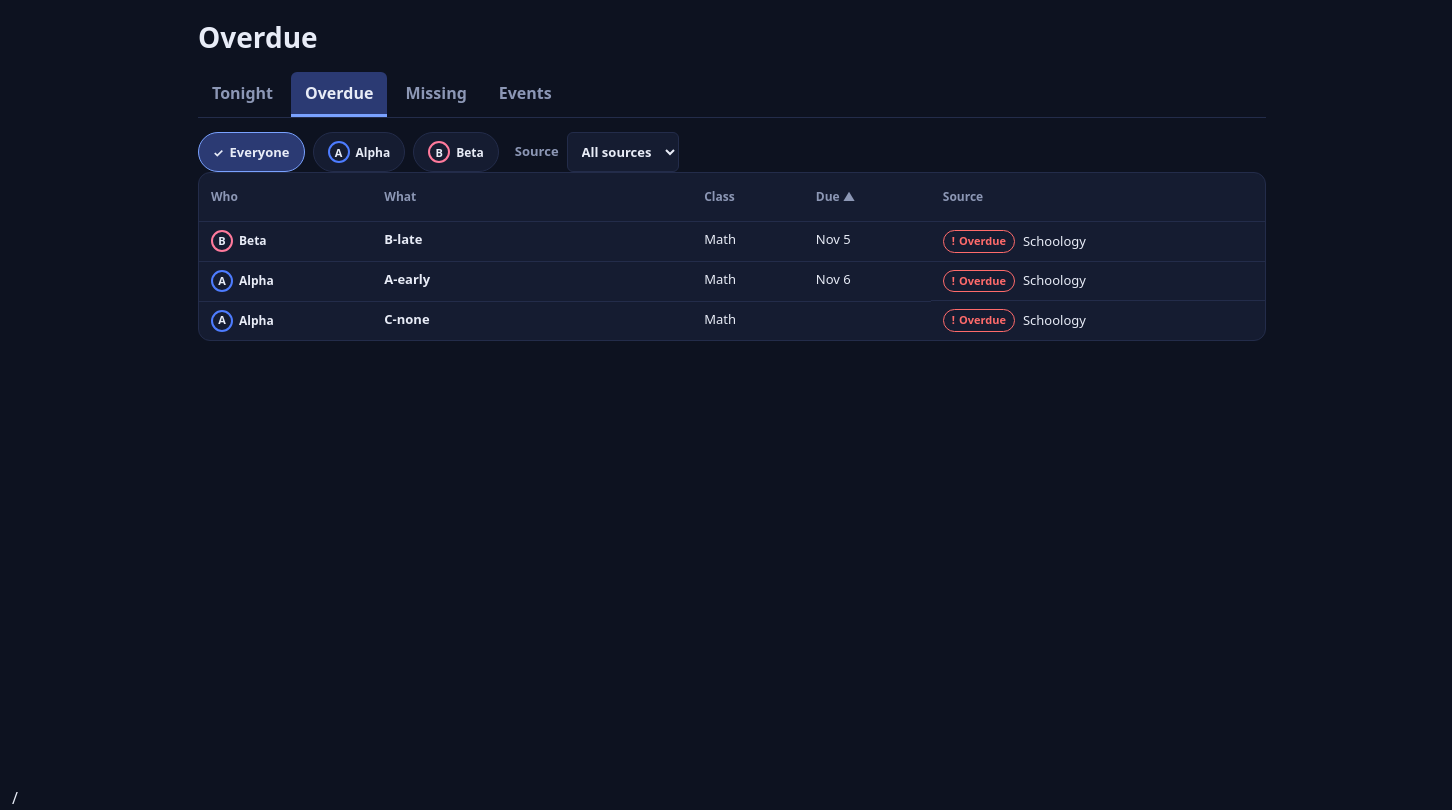
Test: sort by due and by kid, keyboard-operable buttons, aria-sort
Expected: the table is shown, left=199, top=173, right=1265, bottom=340
Click the button with aria-label "sort by due" at [836, 197], box left=816, top=181, right=855, bottom=213
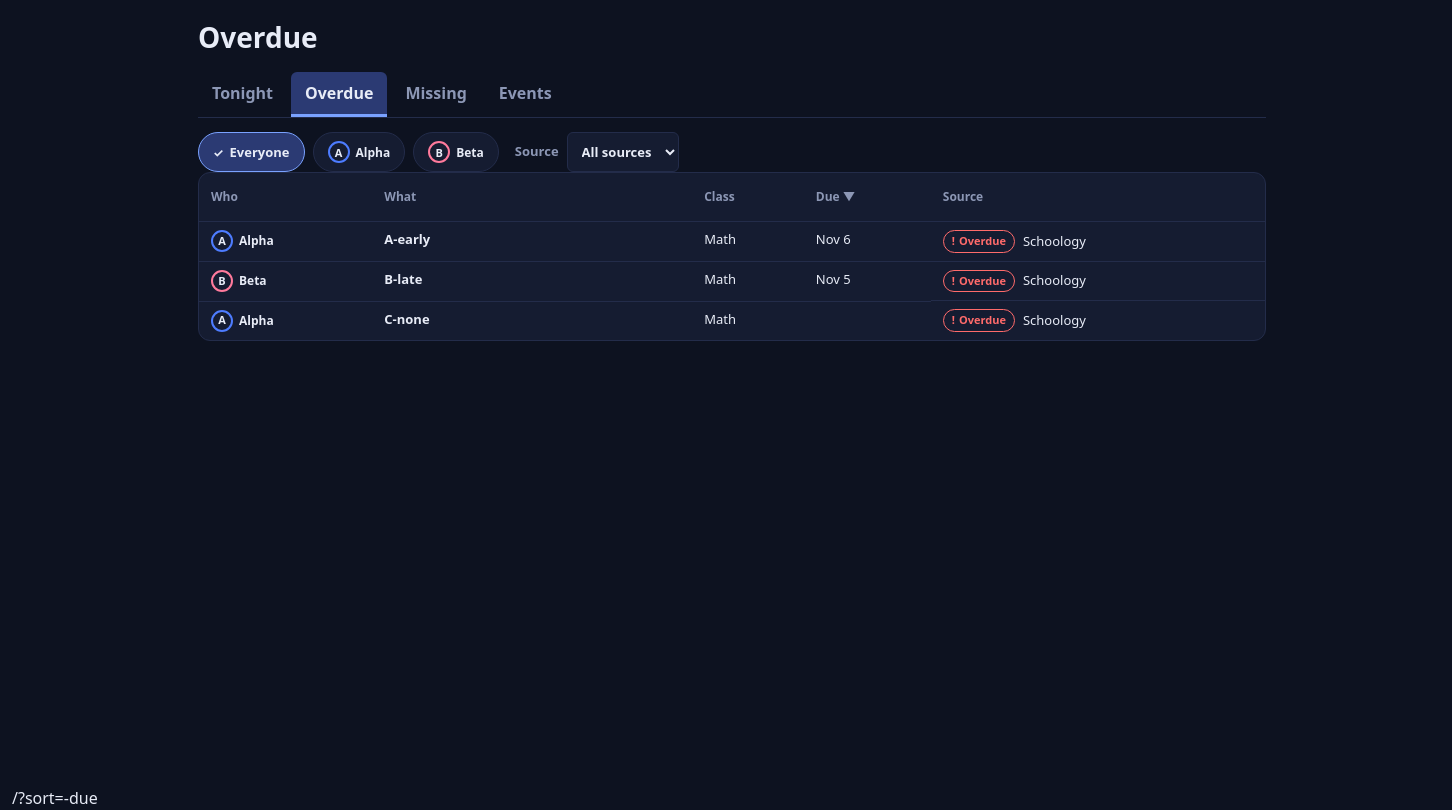
Click the button with aria-label "sort by who" at [224, 197], box left=211, top=181, right=238, bottom=213
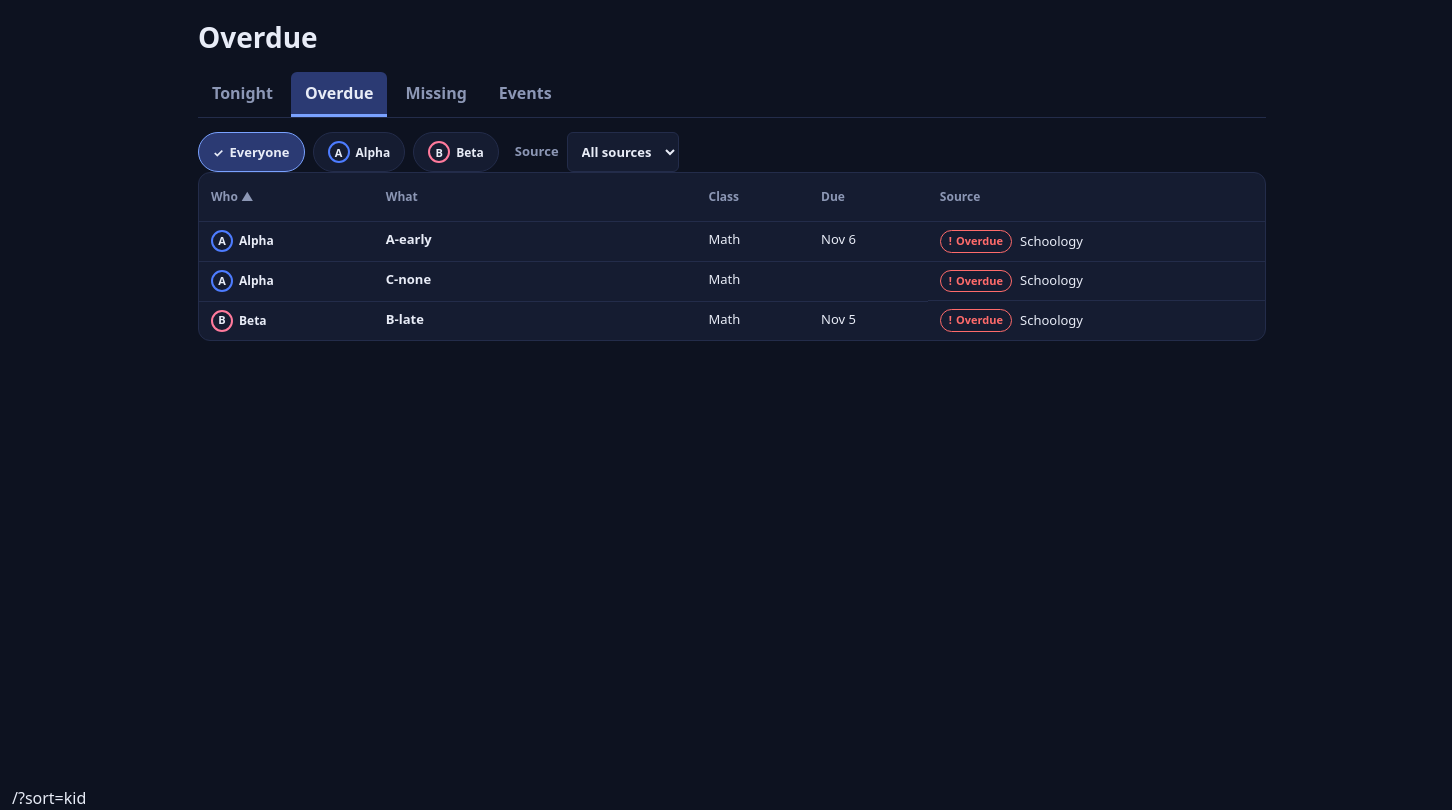
Expected: the cell "B-late" is shown, left=374, top=301, right=696, bottom=340
Expected: the text with test id "where" shows "sort=kid", left=12, top=787, right=86, bottom=809
Click the button with aria-label "sort by who" at [232, 197], box left=211, top=181, right=254, bottom=213
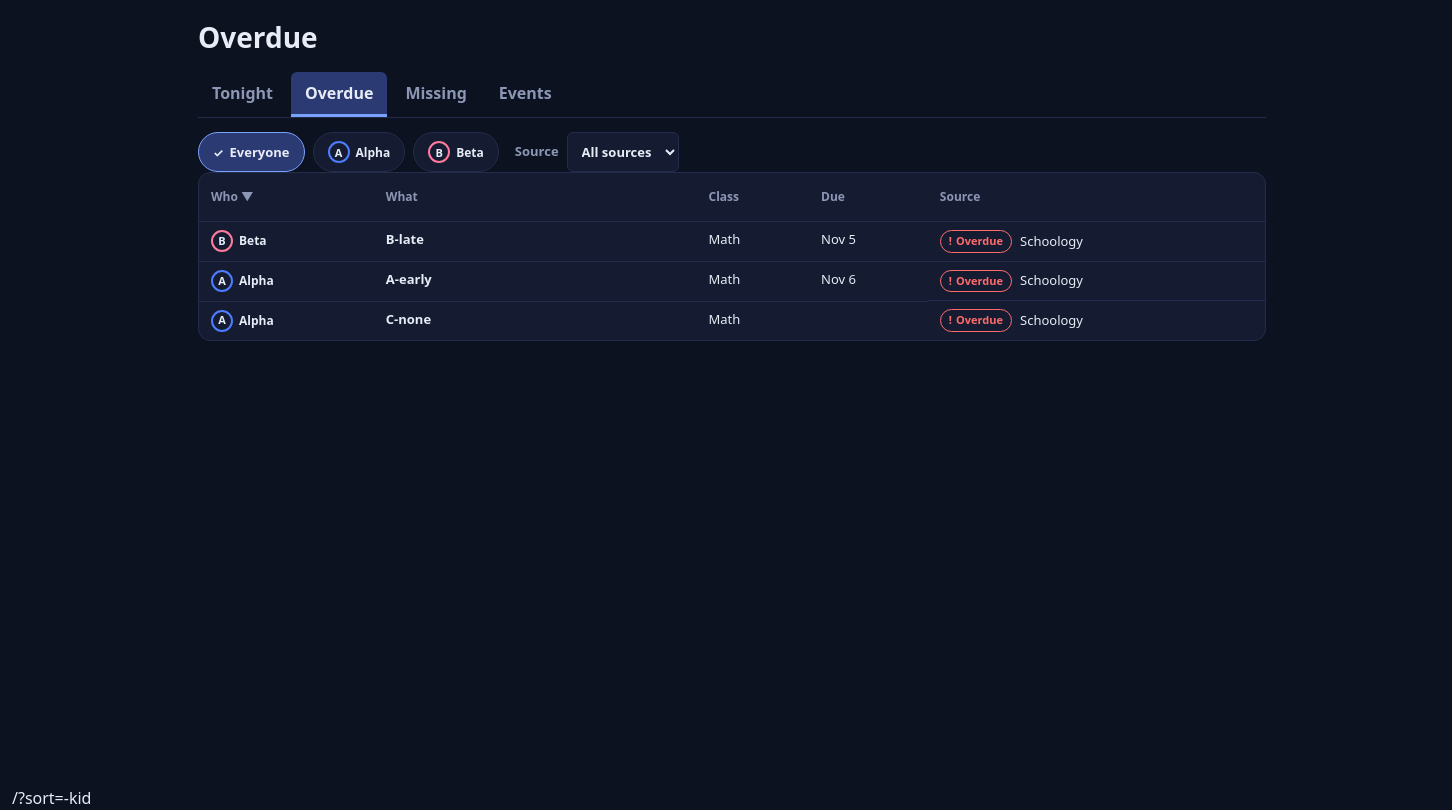
Expected: the text with test id "where" shows "sort=-kid", left=12, top=787, right=92, bottom=809
